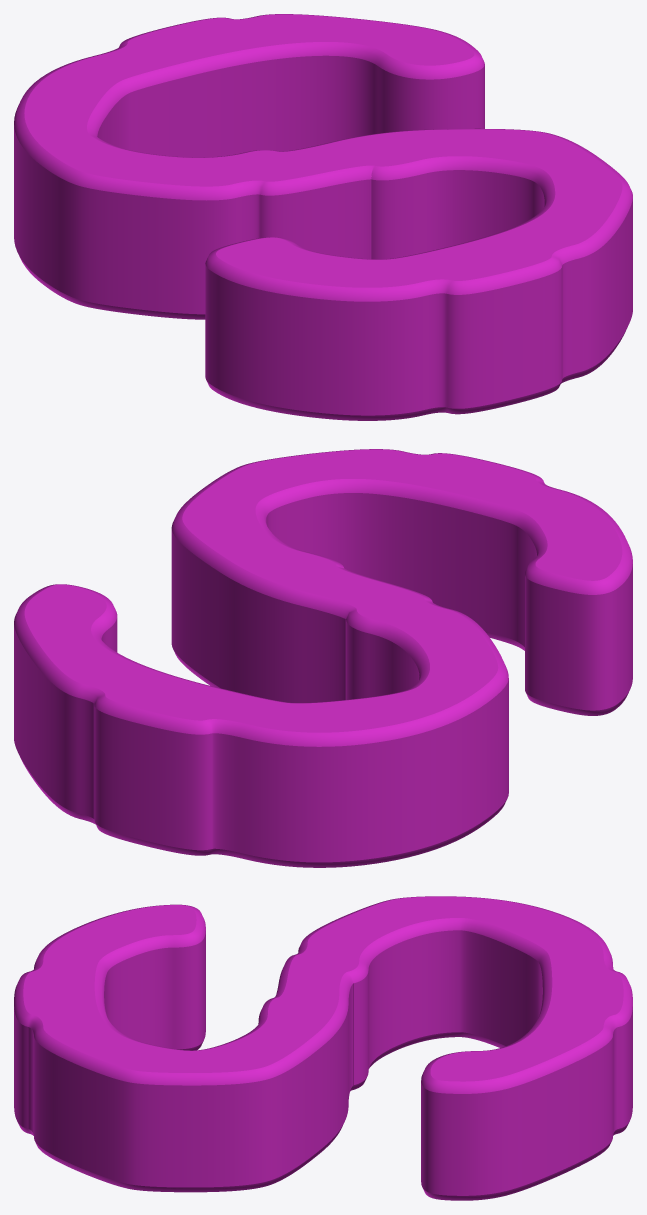
The model's file is Blocky_LetterS.fbx.
The picture shows the model from 3 angles, top to bottom: view 1: azimuth 30°, elevation 25°; view 2: azimuth 150°, elevation 25°; view 3: azimuth 270°, elevation 25°; orthographic projection. The views are drawn at different scales.
Parts seen in each view (by area): view 1: BlockyLetter_S; view 2: BlockyLetter_S; view 3: BlockyLetter_S.
Part boxes in pixels (left/top/right/bottom): BlockyLetter_S: left=14, top=14, right=632, bottom=420; BlockyLetter_S: left=14, top=449, right=632, bottom=867; BlockyLetter_S: left=14, top=896, right=632, bottom=1200.
Size of the model in its own units: 0.487 by 0.14 by 0.6605.
